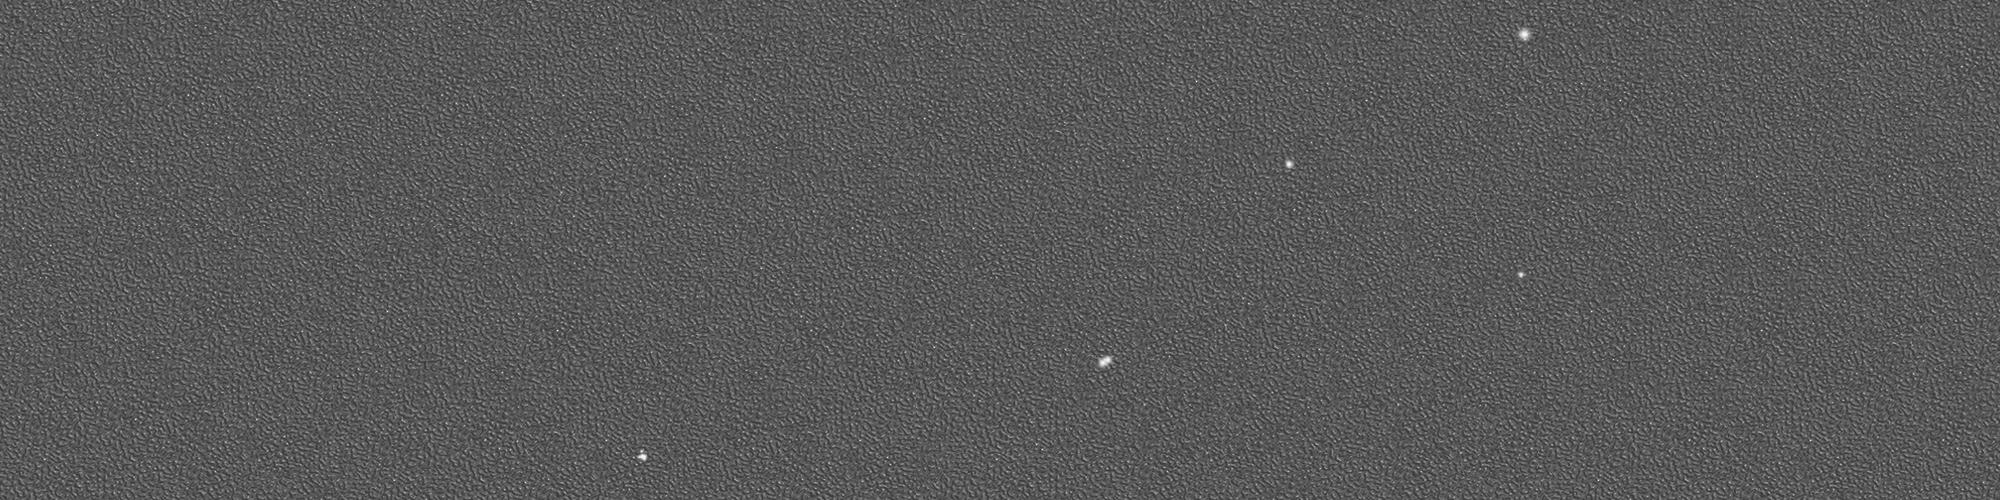Particles: (1094, 351, 1115, 374), (631, 446, 654, 466), (1281, 153, 1298, 173), (1514, 26, 1534, 43), (1515, 267, 1527, 281)
